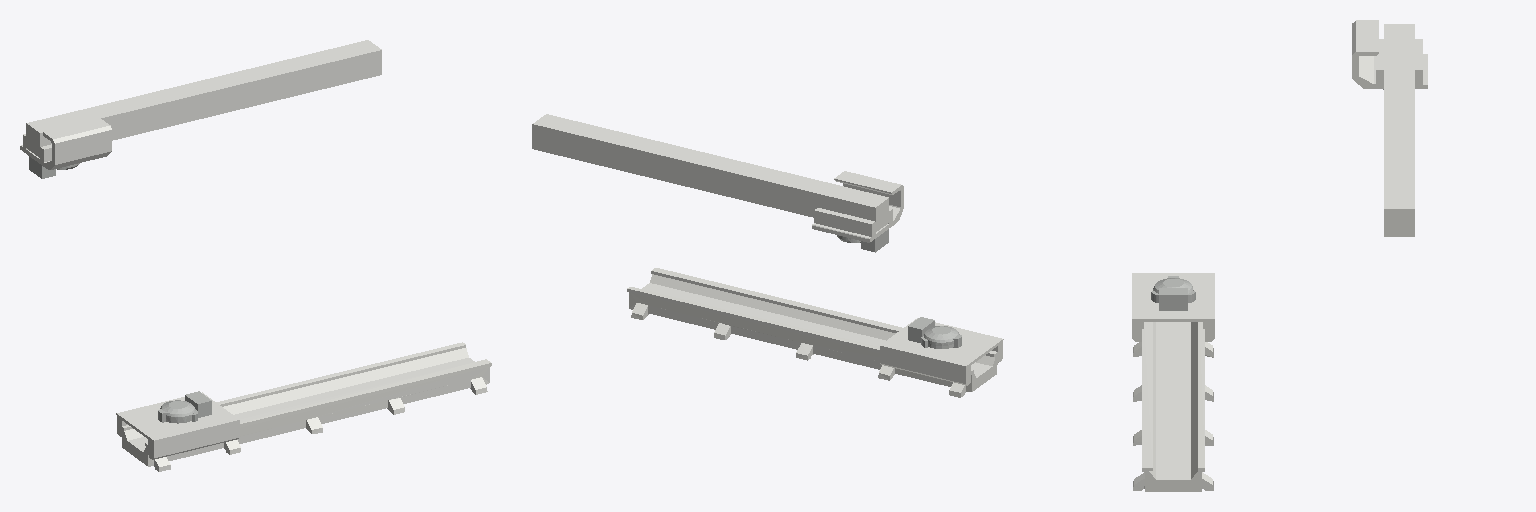
URDF robot description (linear_axis_two_robots):
<?xml version="1.0" ?>
<!-- =================================================================================== -->
<!-- |    This document was autogenerated by xacro from linear_axis_two_robots.xacro   | -->
<!-- |    EDITING THIS FILE BY HAND IS NOT RECOMMENDED                                 | -->
<!-- =================================================================================== -->
<robot name="linear_axis_two_robots" xmlns:xacro="http://wiki.ros.org/xacro">
  <!-- Conversion were obtained from http://www.e-paint.co.uk/Lab_values.asp
       unless otherwise stated. -->
  <!-- Conversion were obtained from http://www.e-paint.co.uk/Lab_values.asp
       unless otherwise stated. -->
  <link name="world"/>
  <joint name="world_joint" type="fixed">
    <parent link="world"/>
    <child link="axisA"/>
    <origin rpy="0.0 0.0 0.0" xyz="0.0 0.0 0.0"/>
  </joint>
  <link name="axisA">
    <inertial>
      <origin xyz="0.0 0.0 0.0"/>
      <mass value="120"/>
      <inertia ixx="-4.98000" ixy="-0.00000" ixz="2.70000" iyy="-5.95200" iyz="-0.00000" izz="0.82800"/>
    </inertial>
    <visual>
      <geometry>
        <mesh filename="package://abb_overhead_floor/meshes/visual/axis_overhead_floor.stl"/>
      </geometry>
      <material name="">
        <color rgba="0.9254902 0.9254902 0.9058824 1"/>
      </material>
    </visual>
    <collision>
      <geometry>
        <mesh filename="package://abb_overhead_floor/meshes/collision/axis_overhead_floor.stl"/>
      </geometry>
    </collision>
  </link>
  <joint name="cartA_joint" type="prismatic">
    <parent link="axisA"/>
    <child link="cartA"/>
    <origin rpy="3.14159265 0 0 " xyz="0.42 1.523 3.152"/>
    <axis xyz="1 0 0"/>
    <limit effort="100000" lower="0.0" upper="4.2" velocity="2.618"/>
    <dynamics damping="0.2" friction="0"/>
  </joint>
  <link name="cartA">
    <inertial>
      <origin xyz="0.0 0.0 0.0"/>
      <mass value="120.00000"/>
      <inertia ixx="-4.98000" ixy="-0.00000" ixz="2.70000" iyy="-5.95200" iyz="-0.00000" izz="0.82800"/>
    </inertial>
    <visual>
      <geometry>
        <mesh filename="package://abb_overhead_floor/meshes/visual/cart_overhead.stl"/>
      </geometry>
      <material name="">
        <color rgba="0.9254902 0.9254902 0.9058824 1"/>
      </material>
    </visual>
    <collision>
      <geometry>
        <mesh filename="package://abb_overhead_floor/meshes/collision/cart_overhead.stl"/>
      </geometry>
    </collision>
  </link>
  <joint name="cartB_joint" type="prismatic">
    <parent link="axisA"/>
    <child link="cartB"/>
    <origin rpy="0 0 0 " xyz="0.6275 -1.0385 0.466"/>
    <axis xyz="1 0 0"/>
    <limit effort="100000" lower="0.0" upper="3.7" velocity="2.618"/>
    <dynamics damping="0.2" friction="0"/>
  </joint>
  <link name="cartB">
    <inertial>
      <origin xyz="0.0 0.0 0.0"/>
      <mass value="120.00000"/>
      <inertia ixx="-4.98000" ixy="-0.00000" ixz="2.70000" iyy="-5.95200" iyz="-0.00000" izz="0.82800"/>
    </inertial>
    <visual>
      <geometry>
        <mesh filename="package://abb_overhead_floor/meshes/visual/cart_floor.stl"/>
      </geometry>
      <material name="">
        <color rgba="0.9254902 0.9254902 0.9058824 1"/>
      </material>
    </visual>
    <collision>
      <geometry>
        <mesh filename="package://abb_overhead_floor/meshes/collision/cart_floor.stl"/>
      </geometry>
    </collision>
  </link>
  <joint name="abb_jointA" type="fixed">
    <parent link="cartA"/>
    <child link="robotA_base_link"/>
    <origin rpy="0 0 0 " xyz="0 0 0 "/>
    <dynamics damping="0.2" friction="0"/>
  </joint>
  <!-- link list -->
  <link name="robotA_base_link">
    <inertial>
      <origin xyz="0.0 0.0 0.0"/>
      <mass value="120.00000"/>
      <inertia ixx="-4.98000" ixy="-0.00000" ixz="2.70000" iyy="-5.95200" iyz="-0.00000" izz="0.82800"/>
    </inertial>
    <visual>
      <geometry>
        <mesh filename="package://abb_irb4600_40_255/meshes/visual/base_link.stl"/>
      </geometry>
      <material name="">
        <color rgba="0.7725490 0.7803922 0.7686275 1"/>
      </material>
    </visual>
    <collision>
      <geometry>
        <mesh filename="package://abb_irb4600_40_255/meshes/collision/base_link.stl"/>
      </geometry>
    </collision>
  </link>
  <link name="robotA_link_1">
    <inertial>
      <origin xyz="0.18000 0.00000 0.50000"/>
      <mass value="120.00000"/>
      <inertia ixx="-4.98000" ixy="-0.00000" ixz="2.70000" iyy="-5.95200" iyz="-0.00000" izz="0.82800"/>
    </inertial>
    <visual>
      <geometry>
        <mesh filename="package://abb_irb4600_40_255/meshes/visual/link_1.stl"/>
      </geometry>
      <material name="">
        <color rgba="0.7725490 0.7803922 0.7686275 1"/>
      </material>
    </visual>
    <collision>
      <geometry>
        <mesh filename="package://abb_irb4600_40_255/meshes/collision/link_1.stl"/>
      </geometry>
    </collision>
  </link>
  <link name="robotA_link_2">
    <inertial>
      <origin xyz="0.94000 0.08000 -0.34000"/>
      <mass value="120.00000"/>
      <inertia ixx="-2.96000" ixy="2.25600" ixz="-9.58800" iyy="-18.72601" iyz="-0.81600" izz="-14.95000"/>
    </inertial>
    <visual>
      <geometry>
        <mesh filename="package://abb_irb4600_40_255/meshes/visual/link_2.stl"/>
      </geometry>
      <material name="">
        <color rgba="0.7725490 0.7803922 0.7686275 1"/>
      </material>
    </visual>
    <collision>
      <geometry>
        <mesh filename="package://abb_irb4600_40_255/meshes/collision/link_2.stl"/>
      </geometry>
    </collision>
  </link>
  <link name="robotA_link_3">
    <inertial>
      <origin xyz="0.07000 -0.26600 0.08800"/>
      <mass value="120.00000"/>
      <inertia ixx="1.34500" ixy="-0.55860" ixz="0.18480" iyy="4.65068" iyz="-0.70224" izz="2.76032"/>
    </inertial>
    <visual>
      <geometry>
        <mesh filename="package://abb_irb4600_40_255/meshes/visual/link_3.stl"/>
      </geometry>
      <material name="">
        <color rgba="0.7725490 0.7803922 0.7686275 1"/>
      </material>
    </visual>
    <collision>
      <geometry>
        <mesh filename="package://abb_irb4600_40_255/meshes/collision/link_3.stl"/>
      </geometry>
    </collision>
  </link>
  <link name="robotA_link_4">
    <inertial>
      <origin xyz="0.00000 0.00000 1.00000"/>
      <mass value="40.00000"/>
      <inertia ixx="-8.00000" ixy="-0.00000" ixz="-0.00000" iyy="-8.00000" iyz="-0.00000" izz="0.48200"/>
    </inertial>
    <visual>
      <geometry>
        <mesh filename="package://abb_irb4600_40_255/meshes/visual/link_4.stl"/>
      </geometry>
      <material name="">
        <color rgba="0.7725490 0.7803922 0.7686275 1"/>
      </material>
    </visual>
    <collision>
      <geometry>
        <mesh filename="package://abb_irb4600_40_255/meshes/collision/link_4.stl"/>
      </geometry>
    </collision>
  </link>
  <link name="robotA_link_5">
    <inertial>
      <origin xyz="0.14000 0.00000 0.00000"/>
      <mass value="10.00000"/>
      <inertia ixx="0.04000" ixy="-0.00000" ixz="-0.00000" iyy="-0.00900" iyz="-0.00000" izz="-0.00400"/>
    </inertial>
    <visual>
      <geometry>
        <mesh filename="package://abb_irb4600_40_255/meshes/visual/link_5.stl"/>
      </geometry>
      <material name="">
        <color rgba="0.7725490 0.7803922 0.7686275 1"/>
      </material>
    </visual>
    <collision>
      <geometry>
        <mesh filename="package://abb_irb4600_40_255/meshes/collision/link_5.stl"/>
      </geometry>
    </collision>
  </link>
  <link name="robotA_link_6">
    <inertial>
      <origin xyz="0.08100 -0.09100 0.33200"/>
      <mass value="5.00000"/>
      <inertia ixx="-0.29652" ixy="-0.03686" ixz="0.09396" iyy="-0.28792" iyz="-0.10556" izz="-0.04621"/>
    </inertial>
    <visual>
      <geometry>
        <mesh filename="package://abb_irb4600_40_255/meshes/visual/link_6.stl"/>
      </geometry>
      <material name="">
        <color rgba="0.1882353 0.1960784 0.2039216 1"/>
      </material>
    </visual>
    <collision>
      <geometry>
        <mesh filename="package://abb_irb4600_40_255/meshes/collision/link_6.stl"/>
      </geometry>
    </collision>
  </link>
  <link name="robotA_tool0"/>
  <!-- end of link list -->
  <!-- joint list -->
  <joint name="robotA_joint_1" type="revolute">
    <parent link="robotA_base_link"/>
    <child link="robotA_link_1"/>
    <origin rpy="0 0 0 " xyz="0 0 0"/>
    <axis xyz="0 0 1"/>
    <limit effort="100000" lower="-3.14159" upper="3.14159" velocity="2.618"/>
    <dynamics damping="0.2" friction="0"/>
  </joint>
  <joint name="robotA_joint_2" type="revolute">
    <parent link="robotA_link_1"/>
    <child link="robotA_link_2"/>
    <origin rpy="0 -0 0 " xyz="0.175 0 0.495"/>
    <axis xyz="0 1 0"/>
    <limit effort="100000" lower="-1.5708" upper="2.61799" velocity="2.618"/>
    <dynamics damping="0.2" friction="0"/>
  </joint>
  <joint name="robotA_joint_3" type="revolute">
    <parent link="robotA_link_2"/>
    <child link="robotA_link_3"/>
    <origin rpy="0 -0 0 " xyz="0 0 1.095"/>
    <axis xyz="0 1 0"/>
    <limit effort="100000" lower="-3.14159" upper="1.309" velocity="2.618"/>
    <dynamics damping="0.2" friction="0"/>
  </joint>
  <joint name="robotA_joint_4" type="revolute">
    <parent link="robotA_link_3"/>
    <child link="robotA_link_4"/>
    <origin rpy="0 -0 0 " xyz="0.332 0 0.175"/>
    <axis xyz="1 0 0"/>
    <limit effort="10000" lower="-6.98132" upper="6.98132" velocity="6.2832"/>
    <dynamics damping="0.2" friction="0"/>
  </joint>
  <joint name="robotA_joint_5" type="revolute">
    <parent link="robotA_link_4"/>
    <child link="robotA_link_5"/>
    <origin rpy="0 -0 0 " xyz="0.939 0 0"/>
    <axis xyz="0 1 0"/>
    <limit effort="100000" lower="-2.18166" upper="2.0944" velocity="6.2832"/>
    <dynamics damping="0.2" friction="0"/>
  </joint>
  <joint name="robotA_joint_6" type="revolute">
    <parent link="robotA_link_5"/>
    <child link="robotA_link_6"/>
    <origin rpy="0 1.57076 0 " xyz="0.135 0 0"/>
    <axis xyz="0 0 1"/>
    <limit effort="100000" lower="-6.98132" upper="6.98132" velocity="7.854"/>
    <dynamics damping="0.2" friction="0"/>
  </joint>
  <joint name="robotA_joint_6-tool0" type="fixed">
    <parent link="robotA_link_6"/>
    <child link="robotA_tool0"/>
    <origin rpy="0 0 0" xyz="0 0 0"/>
  </joint>
  <!-- end of joint list -->
  <!-- ROS base_link to ABB World Coordinates transform -->
  <link name="robotA_base"/>
  <joint name="robotA_base_link-base" type="fixed">
    <origin rpy="0 0 0" xyz="0 0 0"/>
    <parent link="robotA_base_link"/>
    <child link="robotA_base"/>
  </joint>
  <joint name="abb_jointB" type="fixed">
    <parent link="cartB"/>
    <child link="robotB_base_link"/>
    <origin rpy="0 0 3.14159265 " xyz="0 0 0 "/>
    <dynamics damping="0.2" friction="0"/>
  </joint>
  <!-- link list -->
  <link name="robotB_base_link">
    <inertial>
      <origin xyz="0.0 0.0 0.0"/>
      <mass value="120.00000"/>
      <inertia ixx="-4.98000" ixy="-0.00000" ixz="2.70000" iyy="-5.95200" iyz="-0.00000" izz="0.82800"/>
    </inertial>
    <visual>
      <geometry>
        <mesh filename="package://abb_irb4600_40_255/meshes/visual/base_link.stl"/>
      </geometry>
      <material name="">
        <color rgba="0.7725490 0.7803922 0.7686275 1"/>
      </material>
    </visual>
    <collision>
      <geometry>
        <mesh filename="package://abb_irb4600_40_255/meshes/collision/base_link.stl"/>
      </geometry>
    </collision>
  </link>
  <link name="robotB_link_1">
    <inertial>
      <origin xyz="0.18000 0.00000 0.50000"/>
      <mass value="120.00000"/>
      <inertia ixx="-4.98000" ixy="-0.00000" ixz="2.70000" iyy="-5.95200" iyz="-0.00000" izz="0.82800"/>
    </inertial>
    <visual>
      <geometry>
        <mesh filename="package://abb_irb4600_40_255/meshes/visual/link_1.stl"/>
      </geometry>
      <material name="">
        <color rgba="0.7725490 0.7803922 0.7686275 1"/>
      </material>
    </visual>
    <collision>
      <geometry>
        <mesh filename="package://abb_irb4600_40_255/meshes/collision/link_1.stl"/>
      </geometry>
    </collision>
  </link>
  <link name="robotB_link_2">
    <inertial>
      <origin xyz="0.94000 0.08000 -0.34000"/>
      <mass value="120.00000"/>
      <inertia ixx="-2.96000" ixy="2.25600" ixz="-9.58800" iyy="-18.72601" iyz="-0.81600" izz="-14.95000"/>
    </inertial>
    <visual>
      <geometry>
        <mesh filename="package://abb_irb4600_40_255/meshes/visual/link_2.stl"/>
      </geometry>
      <material name="">
        <color rgba="0.7725490 0.7803922 0.7686275 1"/>
      </material>
    </visual>
    <collision>
      <geometry>
        <mesh filename="package://abb_irb4600_40_255/meshes/collision/link_2.stl"/>
      </geometry>
    </collision>
  </link>
  <link name="robotB_link_3">
    <inertial>
      <origin xyz="0.07000 -0.26600 0.08800"/>
      <mass value="120.00000"/>
      <inertia ixx="1.34500" ixy="-0.55860" ixz="0.18480" iyy="4.65068" iyz="-0.70224" izz="2.76032"/>
    </inertial>
    <visual>
      <geometry>
        <mesh filename="package://abb_irb4600_40_255/meshes/visual/link_3.stl"/>
      </geometry>
      <material name="">
        <color rgba="0.7725490 0.7803922 0.7686275 1"/>
      </material>
    </visual>
    <collision>
      <geometry>
        <mesh filename="package://abb_irb4600_40_255/meshes/collision/link_3.stl"/>
      </geometry>
    </collision>
  </link>
  <link name="robotB_link_4">
    <inertial>
      <origin xyz="0.00000 0.00000 1.00000"/>
      <mass value="40.00000"/>
      <inertia ixx="-8.00000" ixy="-0.00000" ixz="-0.00000" iyy="-8.00000" iyz="-0.00000" izz="0.48200"/>
    </inertial>
    <visual>
      <geometry>
        <mesh filename="package://abb_irb4600_40_255/meshes/visual/link_4.stl"/>
      </geometry>
      <material name="">
        <color rgba="0.7725490 0.7803922 0.7686275 1"/>
      </material>
    </visual>
    <collision>
      <geometry>
        <mesh filename="package://abb_irb4600_40_255/meshes/collision/link_4.stl"/>
      </geometry>
    </collision>
  </link>
  <link name="robotB_link_5">
    <inertial>
      <origin xyz="0.14000 0.00000 0.00000"/>
      <mass value="10.00000"/>
      <inertia ixx="0.04000" ixy="-0.00000" ixz="-0.00000" iyy="-0.00900" iyz="-0.00000" izz="-0.00400"/>
    </inertial>
    <visual>
      <geometry>
        <mesh filename="package://abb_irb4600_40_255/meshes/visual/link_5.stl"/>
      </geometry>
      <material name="">
        <color rgba="0.7725490 0.7803922 0.7686275 1"/>
      </material>
    </visual>
    <collision>
      <geometry>
        <mesh filename="package://abb_irb4600_40_255/meshes/collision/link_5.stl"/>
      </geometry>
    </collision>
  </link>
  <link name="robotB_link_6">
    <inertial>
      <origin xyz="0.08100 -0.09100 0.33200"/>
      <mass value="5.00000"/>
      <inertia ixx="-0.29652" ixy="-0.03686" ixz="0.09396" iyy="-0.28792" iyz="-0.10556" izz="-0.04621"/>
    </inertial>
    <visual>
      <geometry>
        <mesh filename="package://abb_irb4600_40_255/meshes/visual/link_6.stl"/>
      </geometry>
      <material name="">
        <color rgba="0.1882353 0.1960784 0.2039216 1"/>
      </material>
    </visual>
    <collision>
      <geometry>
        <mesh filename="package://abb_irb4600_40_255/meshes/collision/link_6.stl"/>
      </geometry>
    </collision>
  </link>
  <link name="robotB_tool0"/>
  <!-- end of link list -->
  <!-- joint list -->
  <joint name="robotB_joint_1" type="revolute">
    <parent link="robotB_base_link"/>
    <child link="robotB_link_1"/>
    <origin rpy="0 0 0 " xyz="0 0 0"/>
    <axis xyz="0 0 1"/>
    <limit effort="100000" lower="-3.14159" upper="3.14159" velocity="2.618"/>
    <dynamics damping="0.2" friction="0"/>
  </joint>
  <joint name="robotB_joint_2" type="revolute">
    <parent link="robotB_link_1"/>
    <child link="robotB_link_2"/>
    <origin rpy="0 -0 0 " xyz="0.175 0 0.495"/>
    <axis xyz="0 1 0"/>
    <limit effort="100000" lower="-1.5708" upper="2.61799" velocity="2.618"/>
    <dynamics damping="0.2" friction="0"/>
  </joint>
  <joint name="robotB_joint_3" type="revolute">
    <parent link="robotB_link_2"/>
    <child link="robotB_link_3"/>
    <origin rpy="0 -0 0 " xyz="0 0 1.095"/>
    <axis xyz="0 1 0"/>
    <limit effort="100000" lower="-3.14159" upper="1.309" velocity="2.618"/>
    <dynamics damping="0.2" friction="0"/>
  </joint>
  <joint name="robotB_joint_4" type="revolute">
    <parent link="robotB_link_3"/>
    <child link="robotB_link_4"/>
    <origin rpy="0 -0 0 " xyz="0.332 0 0.175"/>
    <axis xyz="1 0 0"/>
    <limit effort="10000" lower="-6.98132" upper="6.98132" velocity="6.2832"/>
    <dynamics damping="0.2" friction="0"/>
  </joint>
  <joint name="robotB_joint_5" type="revolute">
    <parent link="robotB_link_4"/>
    <child link="robotB_link_5"/>
    <origin rpy="0 -0 0 " xyz="0.939 0 0"/>
    <axis xyz="0 1 0"/>
    <limit effort="100000" lower="-2.18166" upper="2.0944" velocity="6.2832"/>
    <dynamics damping="0.2" friction="0"/>
  </joint>
  <joint name="robotB_joint_6" type="revolute">
    <parent link="robotB_link_5"/>
    <child link="robotB_link_6"/>
    <origin rpy="0 1.57076 0 " xyz="0.135 0 0"/>
    <axis xyz="0 0 1"/>
    <limit effort="100000" lower="-6.98132" upper="6.98132" velocity="7.854"/>
    <dynamics damping="0.2" friction="0"/>
  </joint>
  <joint name="robotB_joint_6-tool0" type="fixed">
    <parent link="robotB_link_6"/>
    <child link="robotB_tool0"/>
    <origin rpy="0 0 0" xyz="0 0 0"/>
  </joint>
  <!-- end of joint list -->
  <!-- ROS base_link to ABB World Coordinates transform -->
  <link name="robotB_base"/>
  <joint name="robotB_base_link-base" type="fixed">
    <origin rpy="0 0 0" xyz="0 0 0"/>
    <parent link="robotB_base_link"/>
    <child link="robotB_base"/>
  </joint>
</robot>

--- Facts derived from the render (not from the file) ---
3 views of the same robot in one strip: view 1: azimuth 30°, elevation 25°; view 2: azimuth 150°, elevation 25°; view 3: azimuth 270°, elevation 25° (orthographic).
Model linear_axis_two_robots with 22 links and 21 joints (12 revolute, 2 prismatic, 7 fixed), rooted at world, posed every joint at zero.
Links seen in each view (by area): view 1: axisA, cartB, cartA, robotB_base_link; view 2: axisA, cartB, cartA, robotB_base_link; view 3: axisA, cartB, cartA, robotB_base_link.
Link boxes in pixels (<box>): axisA: <box>26,40,491,471</box>; cartB: <box>116,392,239,459</box>; cartA: <box>20,118,111,169</box>; robotB_base_link: <box>158,391,211,423</box>; axisA: <box>532,114,997,397</box>; cartB: <box>880,318,1003,385</box>; cartA: <box>812,171,903,242</box>; robotB_base_link: <box>908,317,961,348</box>; axisA: <box>1133,24,1414,491</box>; cartB: <box>1132,273,1214,341</box>; cartA: <box>1352,20,1427,88</box>; robotB_base_link: <box>1151,276,1195,310</box>.
Size in the robot's own frame: 5 by 3.38 by 3.65 metres.
Meshes: 10 distinct files referenced, 5 mesh visuals loaded (4 binary STL); not drawn: 12 (reference not matched to a file when rendering).